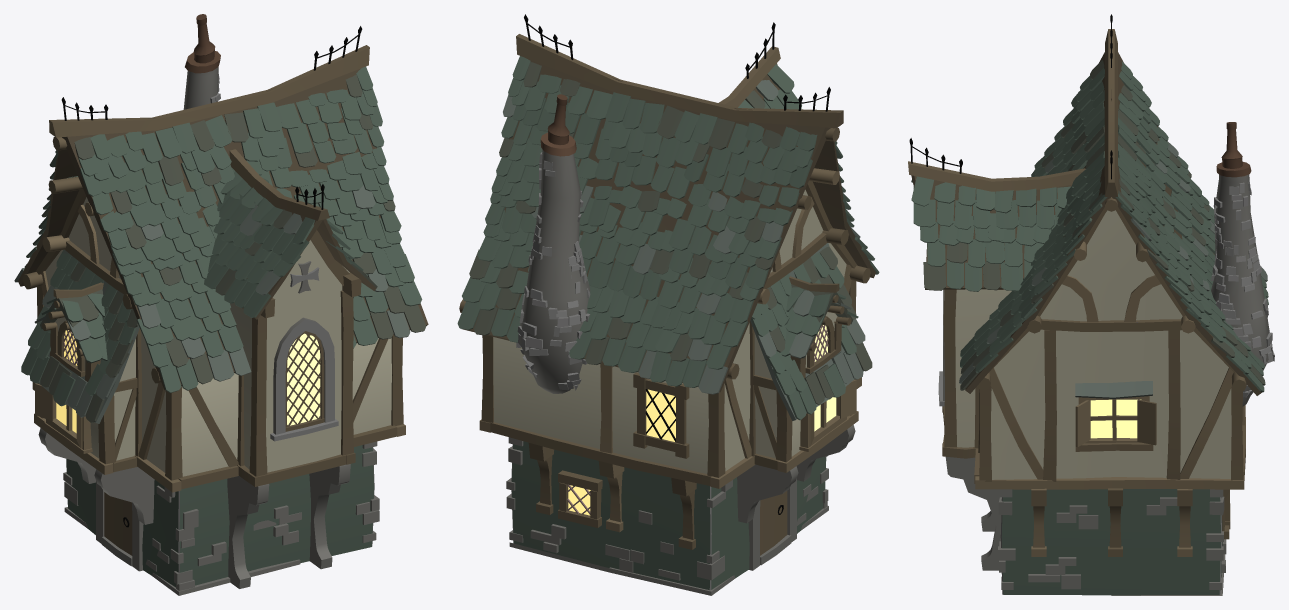
File: House_of_Scientists.fbx
3 renders of one model, left to right at view 1: azimuth 30°, elevation 25°; view 2: azimuth 150°, elevation 25°; view 3: azimuth 270°, elevation 25°, orthographic. The views are drawn at different scales.
Parts seen in each view (by area): view 1: Здание_учёных; view 2: Здание_учёных; view 3: Здание_учёных.
Part boxes in pixels (x1,y1,x2,y2): Здание_учёных: [14, 14, 428, 595]; Здание_учёных: [457, 14, 879, 595]; Здание_учёных: [908, 14, 1274, 595].
Bounding box in the file's own units: 14.27 × 20.26 × 14.62.
